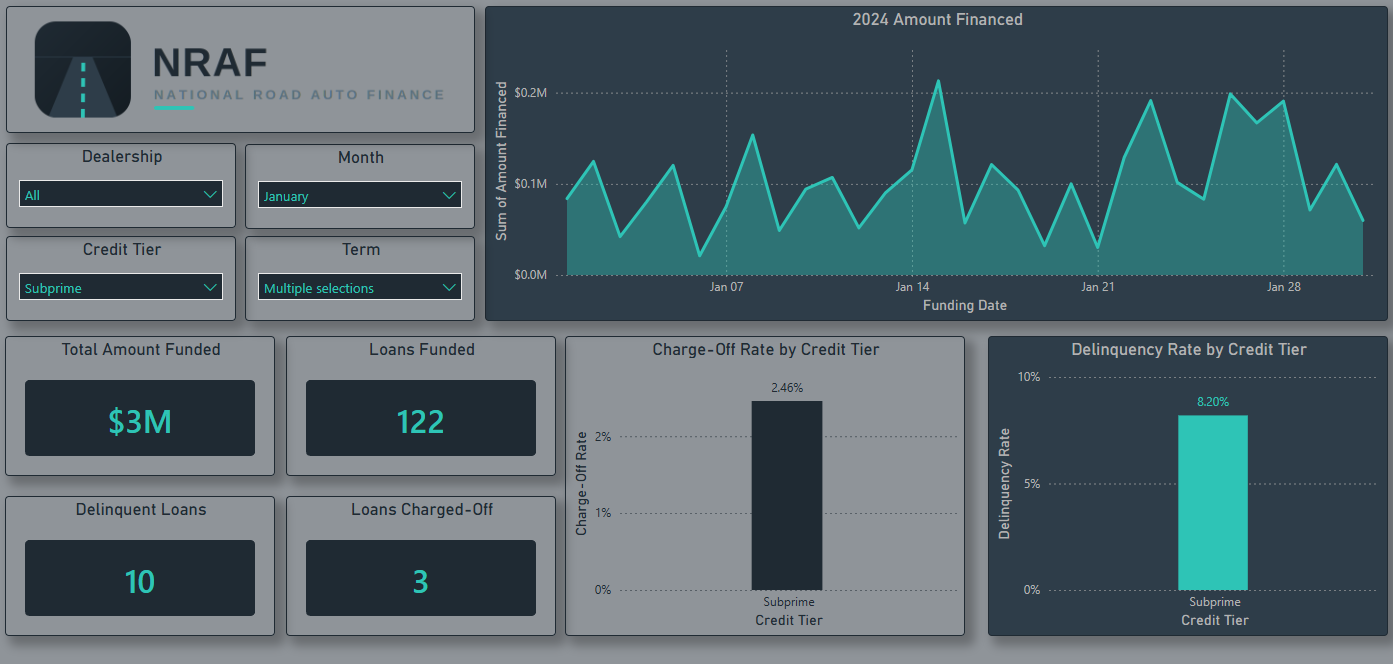

This screenshot's page, from the dashboard's own definition file:
{"tool":"powerbi","page":{"name":"Page 1","canvas":[1400,680],"ordinal":0},"visuals":[{"type":"areaChart","title":"2024 Amount Financed","fields":{"Category":["Working Loan Data.Funding Date"],"Y":["Sum(Working Loan Data.Amount Financed)"]},"box":[488,10,903,315],"z":0},{"type":"slicer","title":"Dealership","fields":{"Values":["Working Loan Data.Dealership"]},"box":[8.9,146.6,230,85],"z":1000},{"type":"slicer","title":"Month","fields":{"Values":["Working Loan Data.Funding Date.Variation.Date Hierarchy.Month"]},"box":[247.8,147.7,230,85],"z":2000},{"type":"slicer","title":"Credit Tier","fields":{"Values":["Working Loan Data.Credit Tier"]},"box":[8.9,240,230,85],"z":3000},{"type":"slicer","title":"Term","fields":{"Values":["Working Loan Data.Loan Term (Months)"]},"box":[247.8,239.9,230,85],"z":4000},{"type":"cardVisual","title":"Loans Funded","fields":{"Data":["CountNonNull(Working Loan Data.Loan ID)"]},"box":[288.7,339.6,270,140],"z":5000},{"type":"cardVisual","title":"Total Amount Funded","fields":{"Data":["Sum(Working Loan Data.Amount Financed)"]},"box":[8.5,339.6,270,140],"z":6000},{"type":"image","box":[8.9,10,468.9,126.7],"z":7000},{"type":"cardVisual","title":"Loans Charged-Off","fields":{"Data":["Working Loan Data.Loans Charged-Off"]},"box":[288.7,500,270,140],"z":8000},{"type":"columnChart","fields":{"Category":["Working Loan Data.Credit Tier"],"Y":["Working Loan Data.Delinquency Rate"]},"box":[990.6,339.6,400,300],"z":9000},{"type":"columnChart","fields":{"Category":["Working Loan Data.Credit Tier"],"Y":["Working Loan Data.Charge-Off Rate"]},"box":[567.9,339.6,400,300],"z":10000},{"type":"cardVisual","title":"Delinquent Loans","fields":{"Data":["Working Loan Data.Loans Delinquent"]},"box":[8.5,500,270,140],"z":11000}]}

Visuals, with their boxes in screenshot pixels (x1, y1, x2, y2), scaled from the page's 1400x680 canvas onto the 1393x664 screenshot:
"2024 Amount Financed" areaChart: bbox(486, 10, 1384, 317)
"Dealership" slicer: bbox(9, 143, 238, 226)
"Month" slicer: bbox(247, 144, 475, 227)
"Credit Tier" slicer: bbox(9, 234, 238, 317)
"Term" slicer: bbox(247, 234, 475, 317)
"Loans Funded" cardVisual: bbox(287, 332, 556, 468)
"Total Amount Funded" cardVisual: bbox(8, 332, 277, 468)
image: bbox(9, 10, 475, 133)
"Loans Charged-Off" cardVisual: bbox(287, 488, 556, 625)
columnChart - Working Loan Data.Credit Tier x Working Loan Data.Delinquency Rate: bbox(986, 332, 1384, 625)
columnChart - Working Loan Data.Credit Tier x Working Loan Data.Charge-Off Rate: bbox(565, 332, 963, 625)
"Delinquent Loans" cardVisual: bbox(8, 488, 277, 625)
